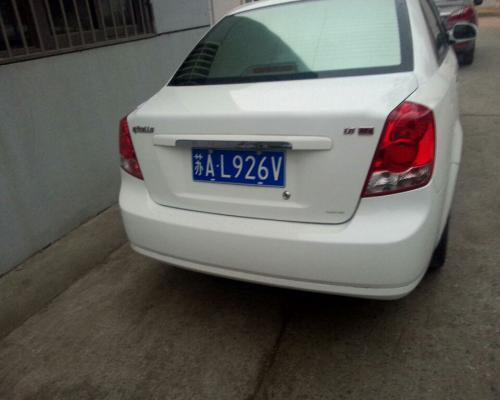Carplate: (183, 144, 290, 195)
